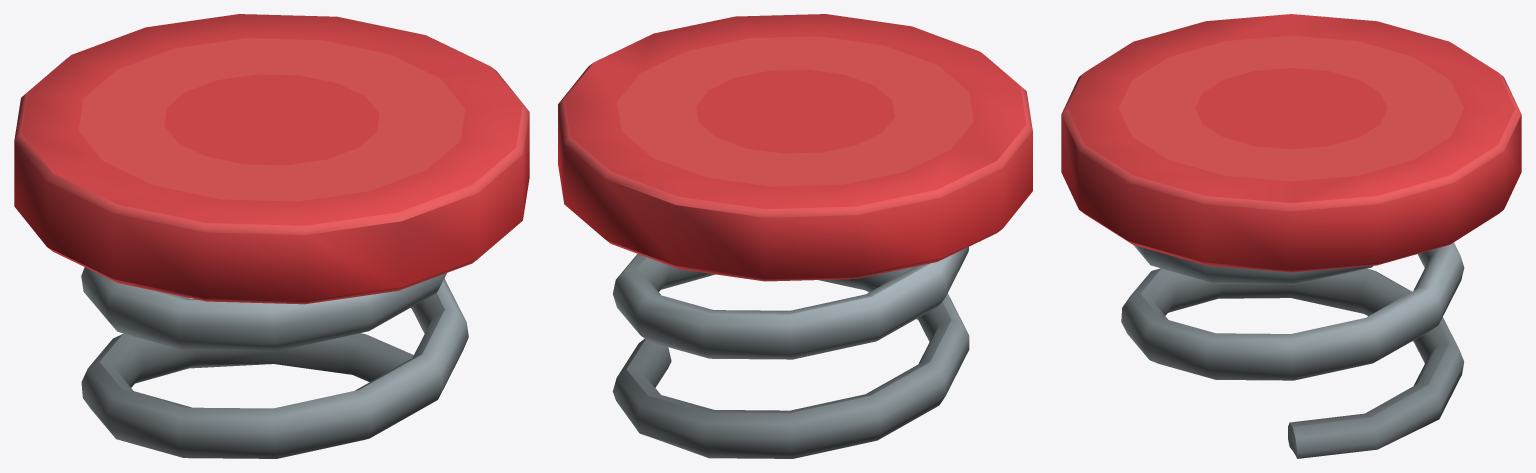
Rendered from spring_pad_red.glb.
The picture shows the model from 3 angles, left to right: view 1: azimuth 30°, elevation 25°; view 2: azimuth 150°, elevation 25°; view 3: azimuth 270°, elevation 25°; orthographic projection. The views are drawn at different scales.
Visible parts, largest first — view 1: spring_pad_red; view 2: spring_pad_red; view 3: spring_pad_red.
Boxes of the visible parts, bbox=[...] form: spring_pad_red: bbox=[14, 14, 529, 458]; spring_pad_red: bbox=[558, 14, 1032, 458]; spring_pad_red: bbox=[1061, 14, 1521, 458].
Size of the model in its own units: 1.5 by 1 by 1.5.
Materials: 1 (1 with a texture image).
